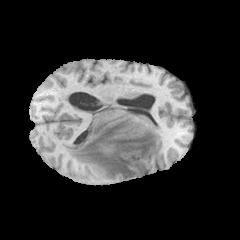glioma: (62, 96, 162, 180)
